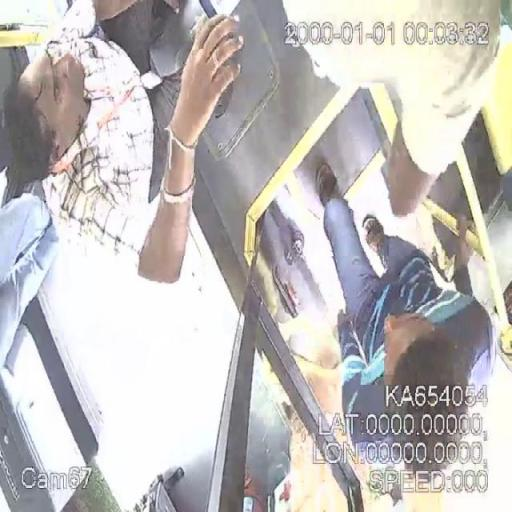persona: (0, 0, 244, 286), (314, 160, 498, 486), (275, 0, 504, 222)
